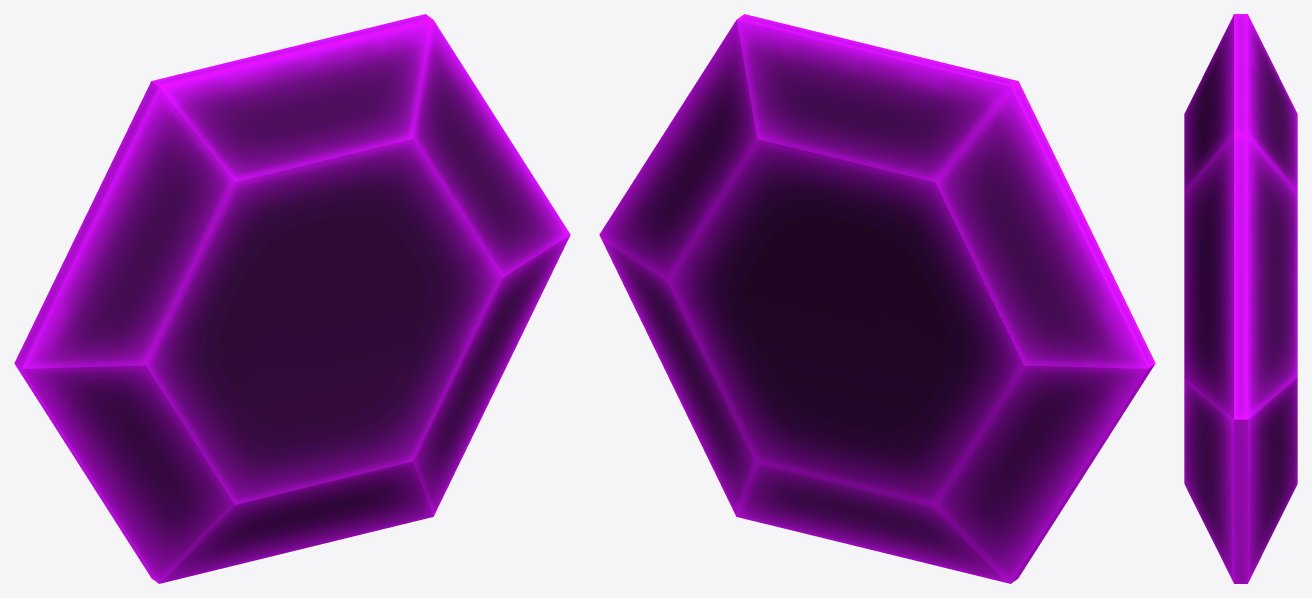
Rendered from Stone2.fbx.
3 views of the same model, side by side, from view 1: azimuth 30°, elevation 25°; view 2: azimuth 150°, elevation 25°; view 3: azimuth 270°, elevation 25° (orthographic). The views are drawn at different scales.
Visible parts, largest first — view 1: Stone2; view 2: Stone2; view 3: Stone2.
Boxes of the visible parts, box(x1,y1,x2,y2) form: Stone2: box(14, 14, 570, 583); Stone2: box(599, 14, 1155, 583); Stone2: box(1184, 14, 1297, 583).
Bounding box in the file's own units: 42.75 × 37.03 × 8.48.
